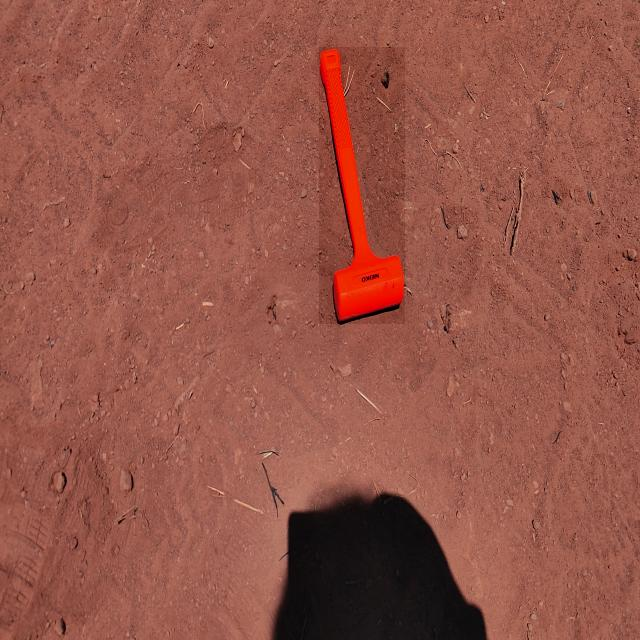Orange_hammer: (320, 47, 406, 324)
